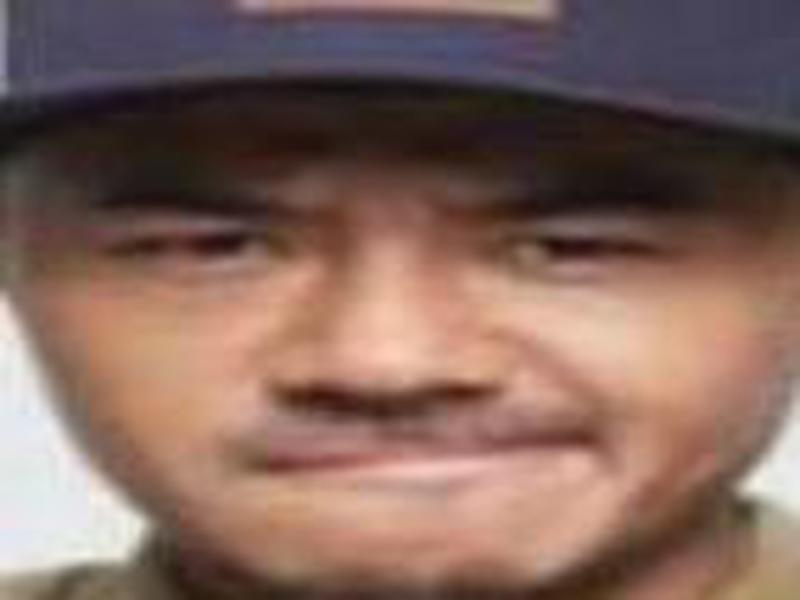without_mask: (8, 116, 787, 600)
